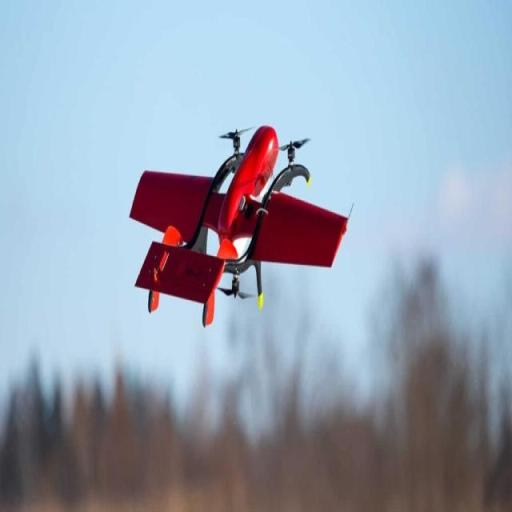uav: (126, 120, 350, 330)
